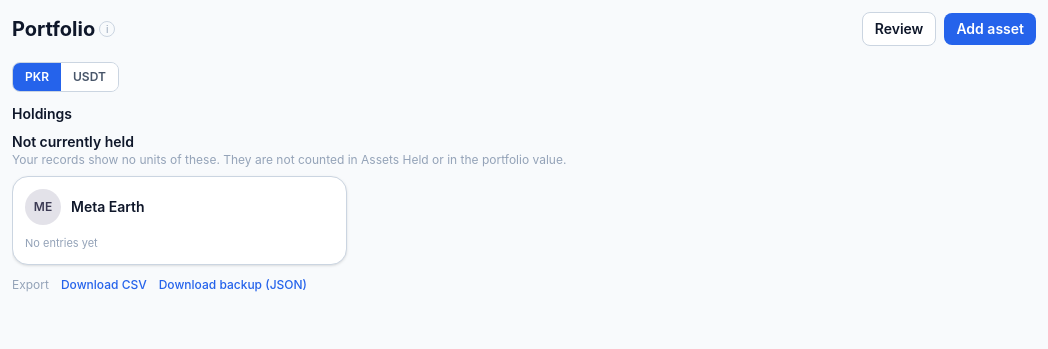
Test case: correcting an entry › imported RupChain trades have no Edit button
This screenshot has width=1048, height=349.
Click the button "ME Meta Earth No entries yet": (43,207) [12,176,347,264]
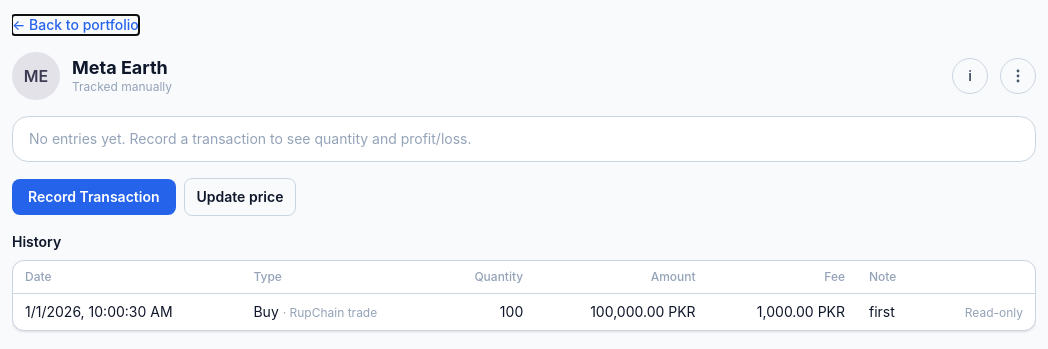
Expected: the text "Read-only" is shown, [965,305,1023,320]
